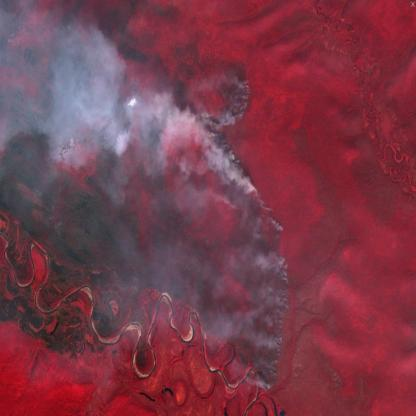fire: (199, 54, 293, 396)
